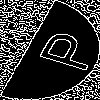P: (25, 25, 100, 74)
